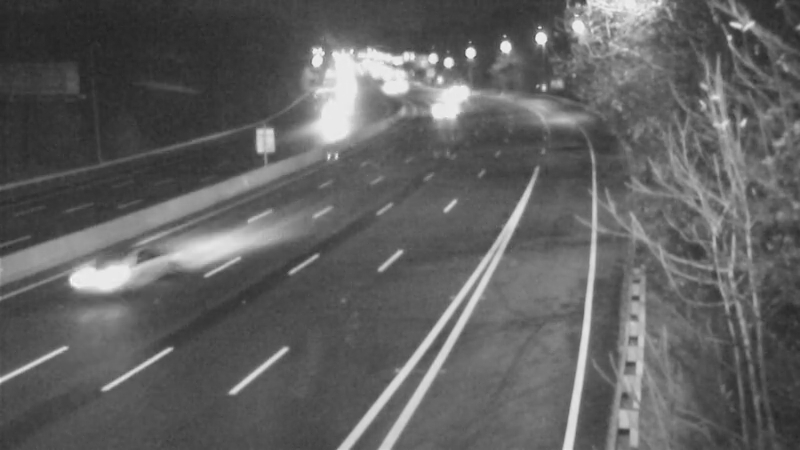vehicle: (63, 238, 143, 318), (416, 87, 466, 137), (420, 71, 470, 121), (301, 113, 351, 163)
